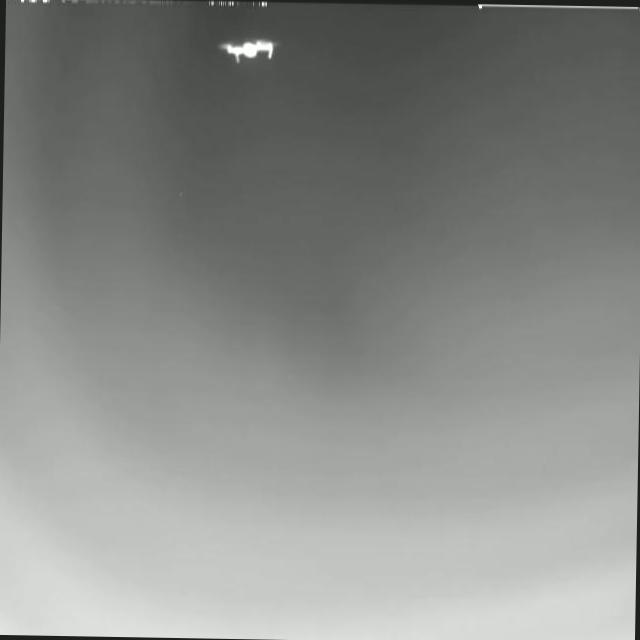DRONE: (214, 31, 283, 66)
